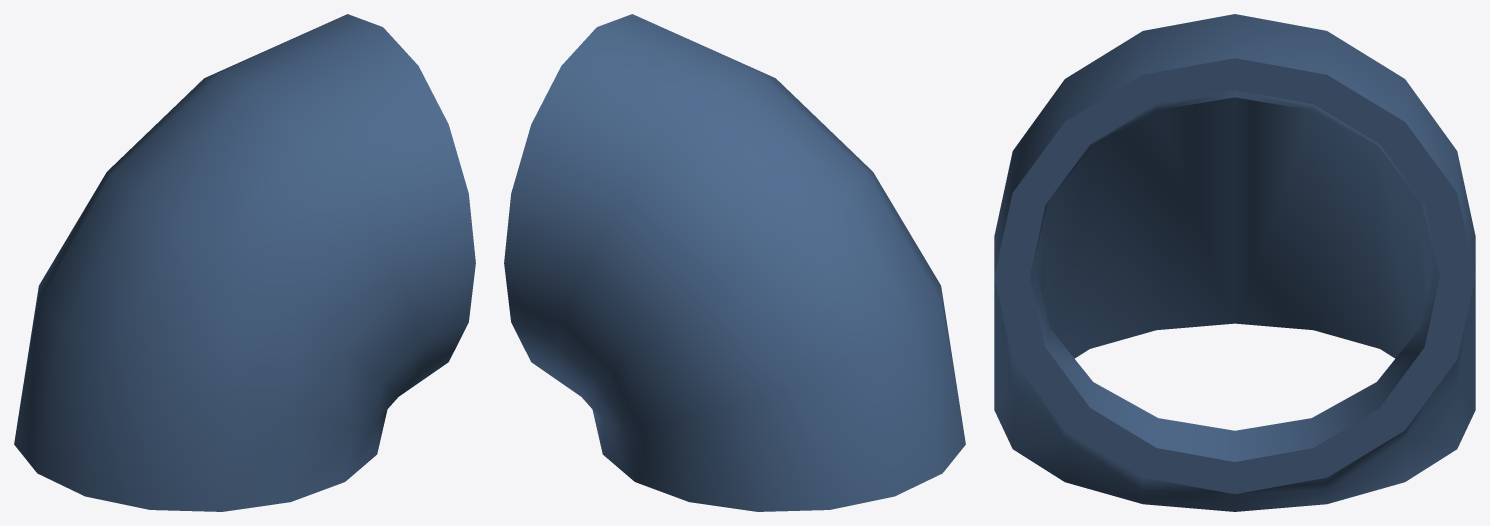
Rendered from pipe_90.glb.
3 renders of one model, left to right at view 1: azimuth 30°, elevation 25°; view 2: azimuth 150°, elevation 25°; view 3: azimuth 270°, elevation 25°, orthographic. The views are drawn at different scales.
Visible parts, largest first — view 1: Pipe_90; view 2: Pipe_90; view 3: Pipe_90.
Part boxes in pixels (left/top/right/bottom): Pipe_90: left=14, top=14, right=475, bottom=511; Pipe_90: left=504, top=14, right=965, bottom=511; Pipe_90: left=994, top=14, right=1475, bottom=511.
Size of the model in its own units: 1.87 by 1.87 by 1.74.
